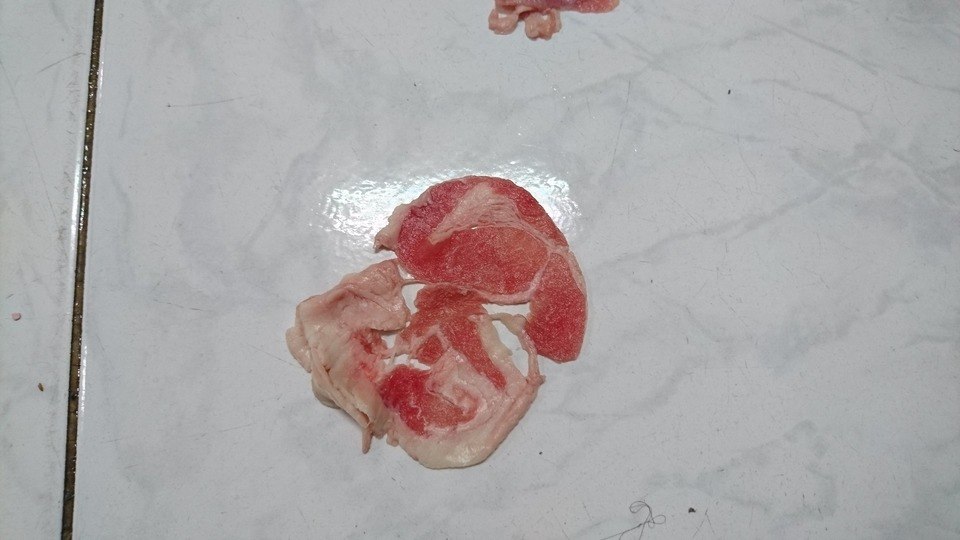restructured meat: (291, 167, 589, 466)
